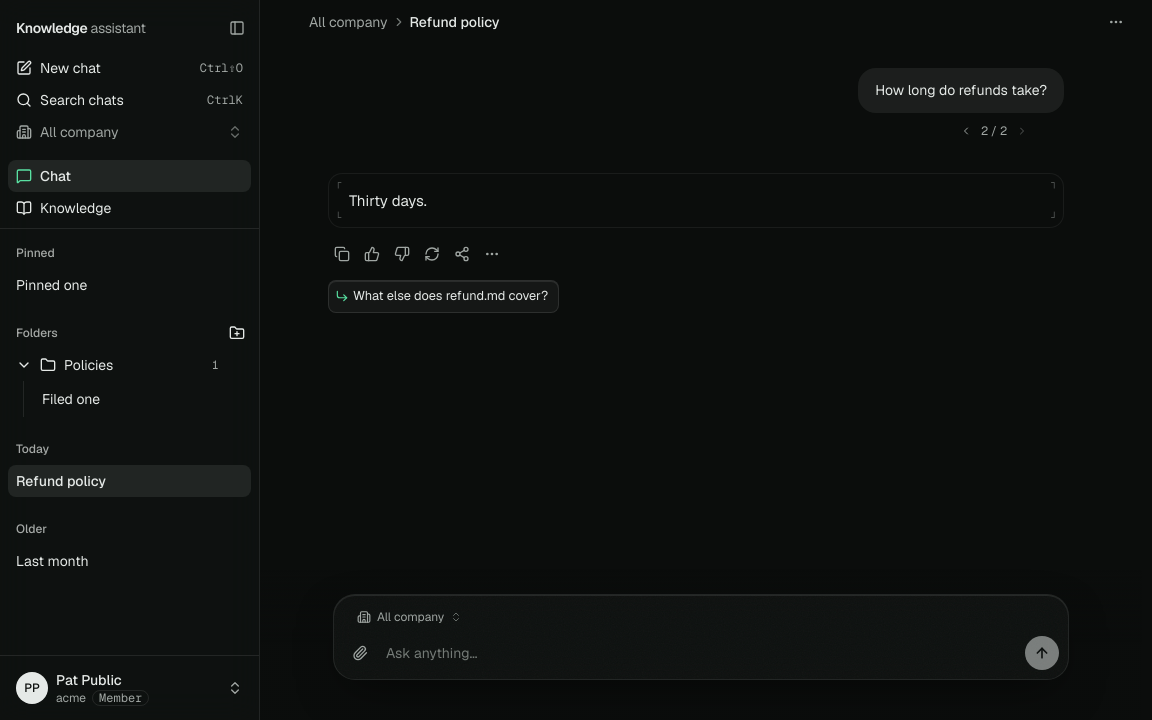
Scenario: branches › switches between versions of an edited question
Expected: the text "Thirty days." is shown, [349,191,427,210]
Expected: the text "2 / 2" is shown, [981,123,1007,139]
Click the button named "Previous version of this question".
click(966, 131)  # box [954,119,978,143]
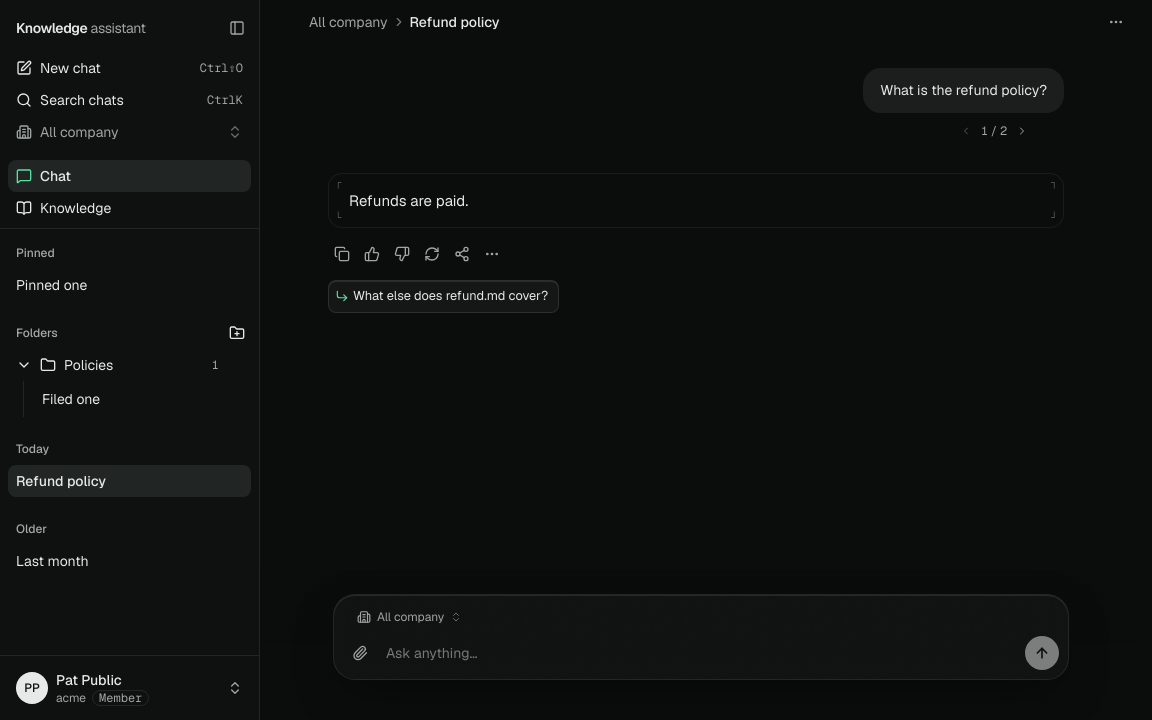
Result: the text "Refunds are paid." is shown at [349,191,468,210]
Result: the text "1 / 2" is shown at [981,123,1007,139]
